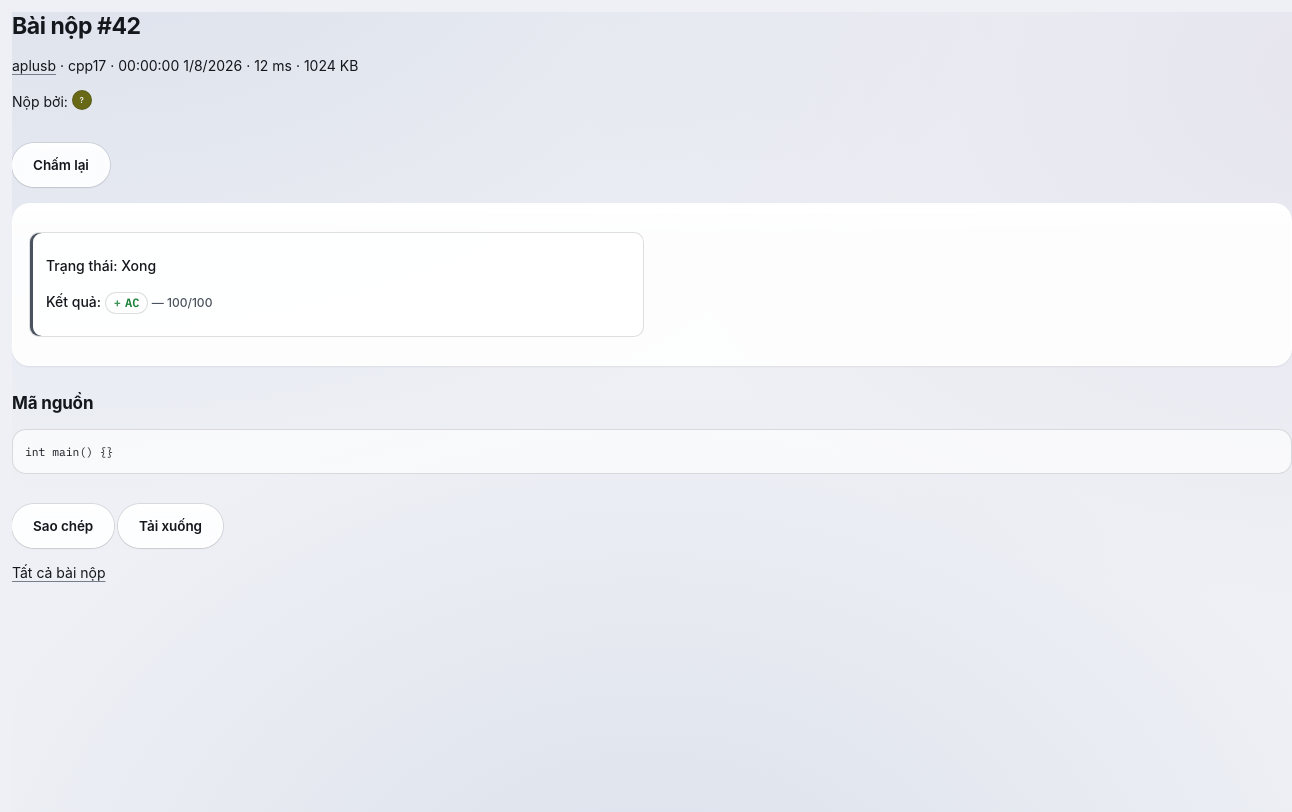
Scenario: rejudging one submission › reports a refusal instead of silently doing nothing
Click the button "Chấm lại". click: coordinates (61, 165)
box: [12,143,110,187]
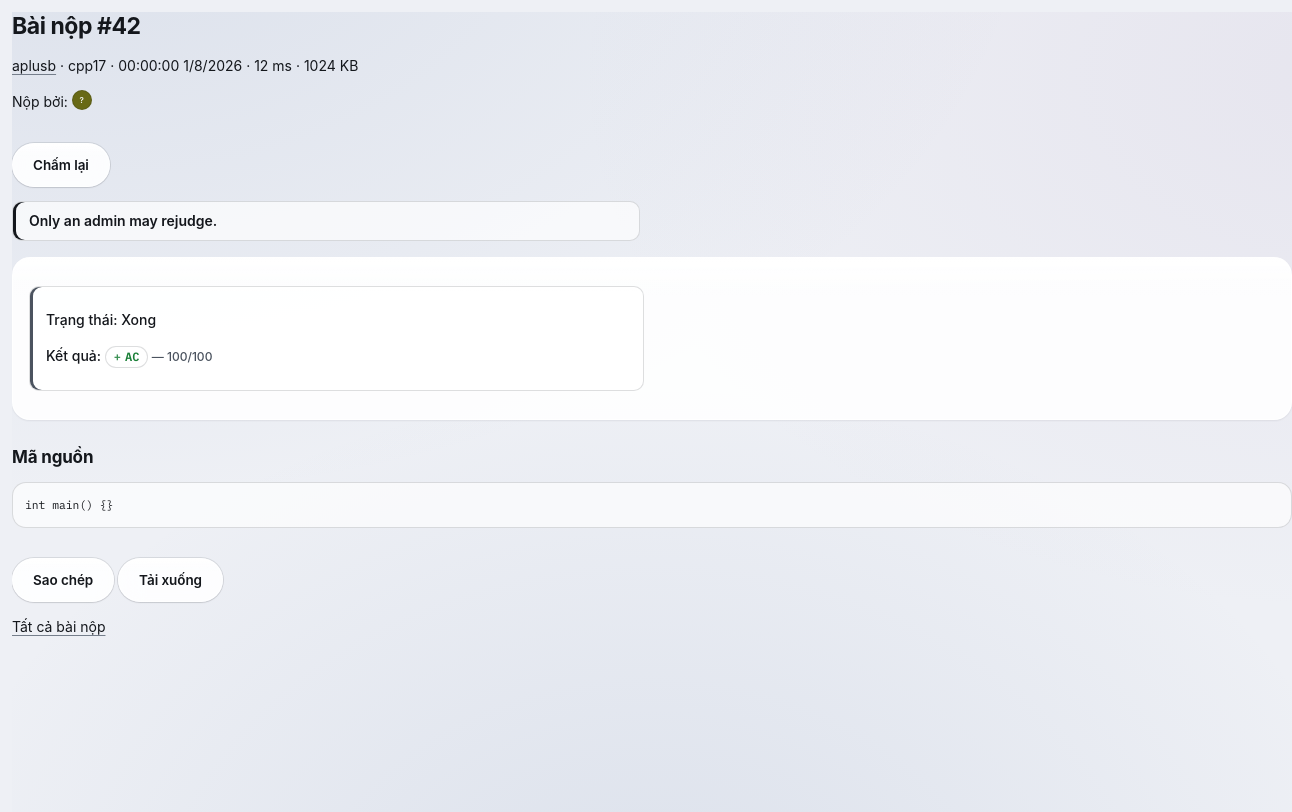
Check: the message "Only an admin may rejudge." is shown, box [12,201,640,241]
